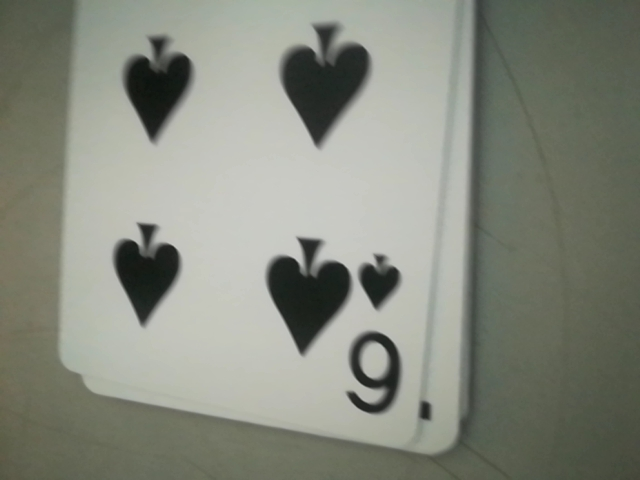ht 6: (342, 240, 420, 426)
